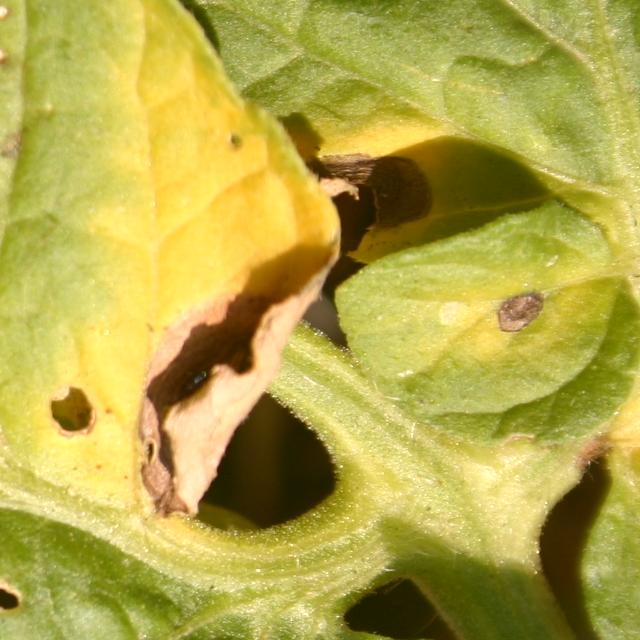Tomato Early blight leaf: (0, 0, 228, 640)
